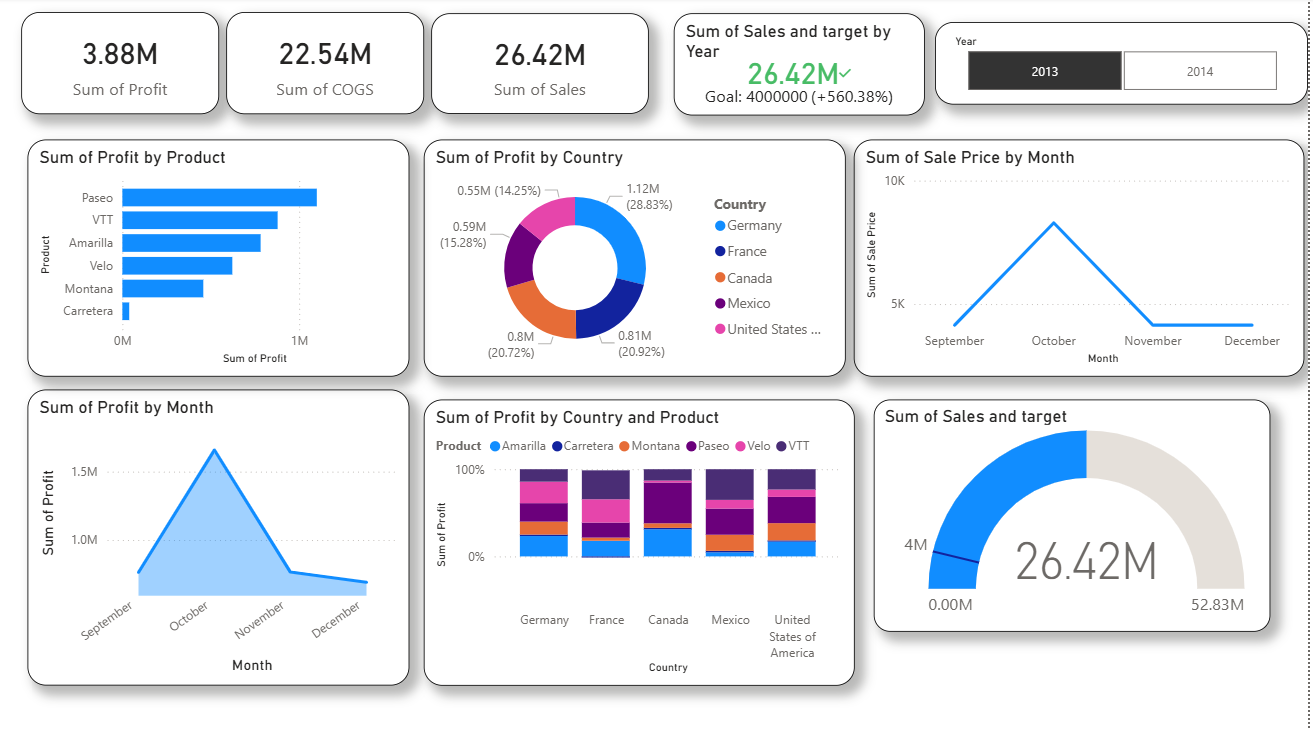

This screenshot's page, from the dashboard's own definition file:
{"tool":"powerbi","page":{"name":"Page 1","canvas":[1280,720],"ordinal":0},"visuals":[{"type":"card","fields":{"Values":["Sum(Financials.Profit)"]},"box":[20.6,15.1,193.5,100.2],"z":0},{"type":"kpi","fields":{"Indicator":["Sum(Financials.Sales)"],"TrendLine":["Financials.Date.Variation.Date Hierarchy.Year"],"Goal":["Financials.target"]},"box":[658.7,16.5,245.6,100.2],"z":1000},{"type":"areaChart","fields":{"Y":["Sum(Financials.Profit)"],"Category":["Financials.Date.Variation.Date Hierarchy.Month"]},"box":[27.4,384.2,373.2,289.5],"z":2000},{"type":"lineChart","fields":{"Category":["Financials.Date.Variation.Date Hierarchy.Month"],"Y":["Sum(Financials.Sale Price)"]},"box":[835.7,140,440.5,231.9],"z":3000},{"type":"hundredPercentStackedColumnChart","fields":{"Category":["Financials.Country"],"Series":["Financials.Product"],"Y":["Sum(Financials.Profit)"]},"box":[414.4,393.8,421.3,279.9],"z":4000},{"type":"card","fields":{"Values":["Sum(Financials.COGS)"]},"box":[220.9,15.1,193.5,100.2],"z":5000},{"type":"card","fields":{"Values":["Sum(Financials.Sales)"]},"box":[421.3,16.5,212.7,98.8],"z":6000},{"type":"donutChart","fields":{"Category":["Financials.Country"],"Y":["Sum(Financials.Profit)"]},"box":[414.4,140,413,231.9],"z":7000},{"type":"barChart","fields":{"Category":["Financials.Product"],"Y":["Sum(Financials.Profit)"]},"box":[27.4,140,373.2,231.9],"z":8000},{"type":"slicer","fields":{"Values":["Financials.Date.Variation.Date Hierarchy.Year"]},"box":[915.3,24.7,365,81],"z":9000},{"type":"gauge","fields":{"Y":["Sum(Financials.Sales)"],"TargetValue":["Financials.target"]},"box":[854.8,393.8,387.6,227.4],"z":10000}]}

Visuals, with their boxes in screenshot pixels (x1, y1, x2, y2), scaled from the page's 1280x720 canvas onto the 1313x729 screenshot:
card - Sum(Financials.Profit): 21, 15, 220, 117
kpi - Sum(Financials.Sales) x Financials.Date.Variation.Date Hierarchy.Year: 676, 17, 928, 118
areaChart - Sum(Financials.Profit) x Financials.Date.Variation.Date Hierarchy.Month: 28, 389, 411, 682
lineChart - Financials.Date.Variation.Date Hierarchy.Month x Sum(Financials.Sale Price): 857, 142, 1309, 377
hundredPercentStackedColumnChart - Financials.Country x Financials.Product: 425, 399, 857, 682
card - Sum(Financials.COGS): 227, 15, 425, 117
card - Sum(Financials.Sales): 432, 17, 650, 117
donutChart - Financials.Country x Sum(Financials.Profit): 425, 142, 849, 377
barChart - Financials.Product x Sum(Financials.Profit): 28, 142, 411, 377
slicer - Financials.Date.Variation.Date Hierarchy.Year: 939, 25, 1312, 107
gauge - Sum(Financials.Sales) x Financials.target: 877, 399, 1274, 629
